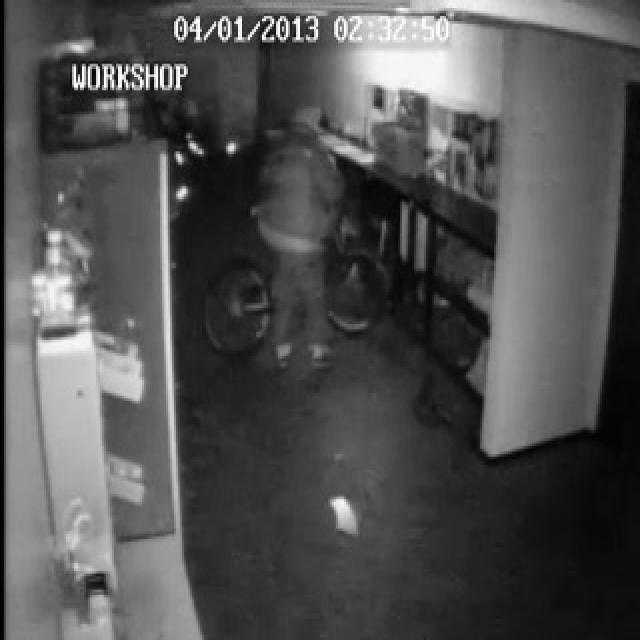thief: (266, 101, 344, 329)
